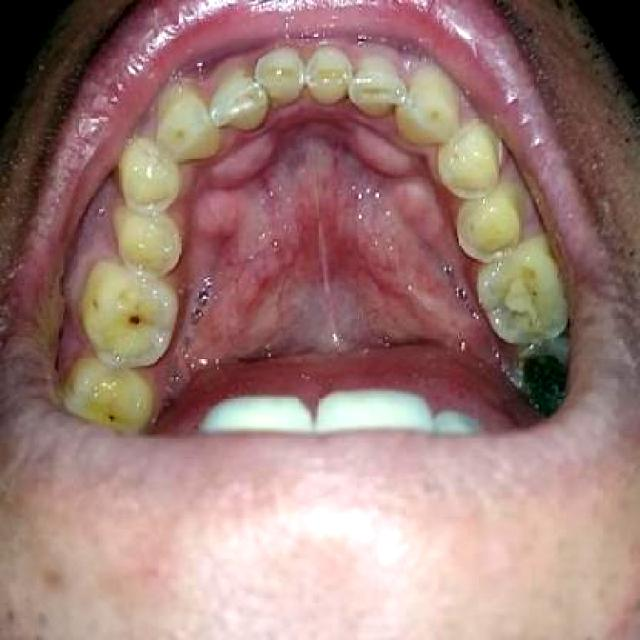Plaque: (496, 273, 545, 328), (125, 312, 153, 330), (105, 410, 121, 424)
